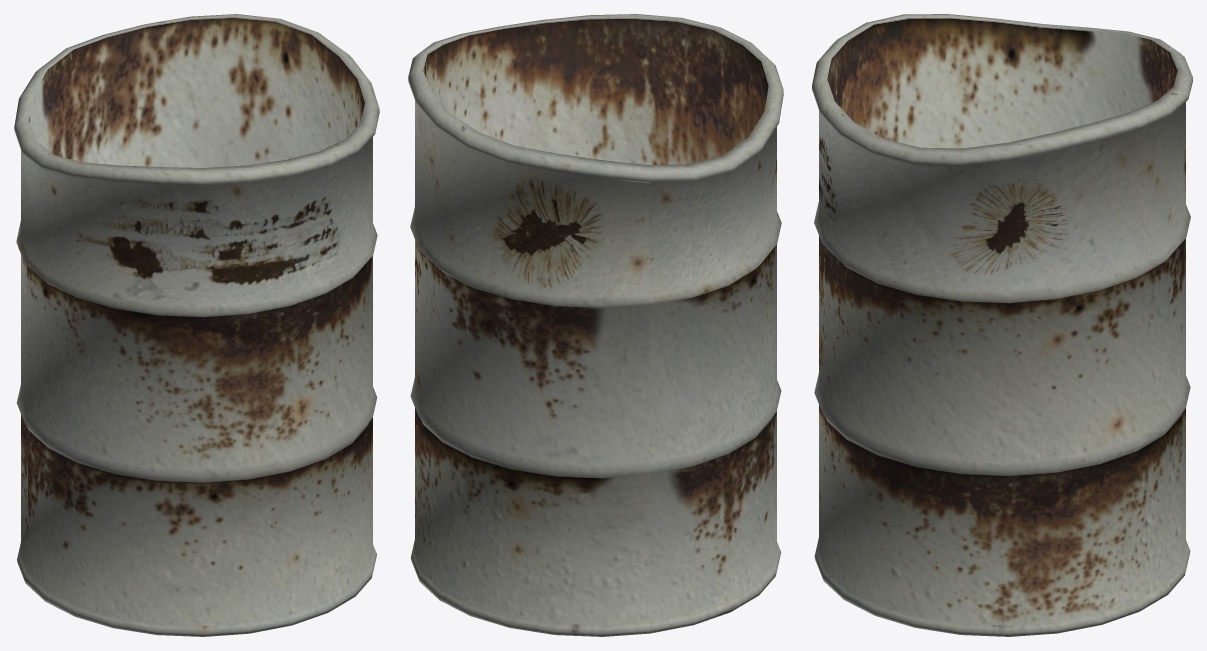
Rendered from barrel.obj.
3 views of the same model, side by side, from view 1: azimuth 30°, elevation 25°; view 2: azimuth 150°, elevation 25°; view 3: azimuth 270°, elevation 25° (orthographic). The views are drawn at different scales.
Visible parts, largest first — view 1: Cylinder; view 2: Cylinder; view 3: Cylinder.
Part boxes in pixels (box(x1,y1,x2,y2)): Cylinder: box(14, 14, 379, 636); Cylinder: box(408, 14, 783, 636); Cylinder: box(812, 14, 1192, 636).
Bounding box in the file's own units: 2.07 × 3 × 2.07.
Materials: 1 (1 with a texture image).
